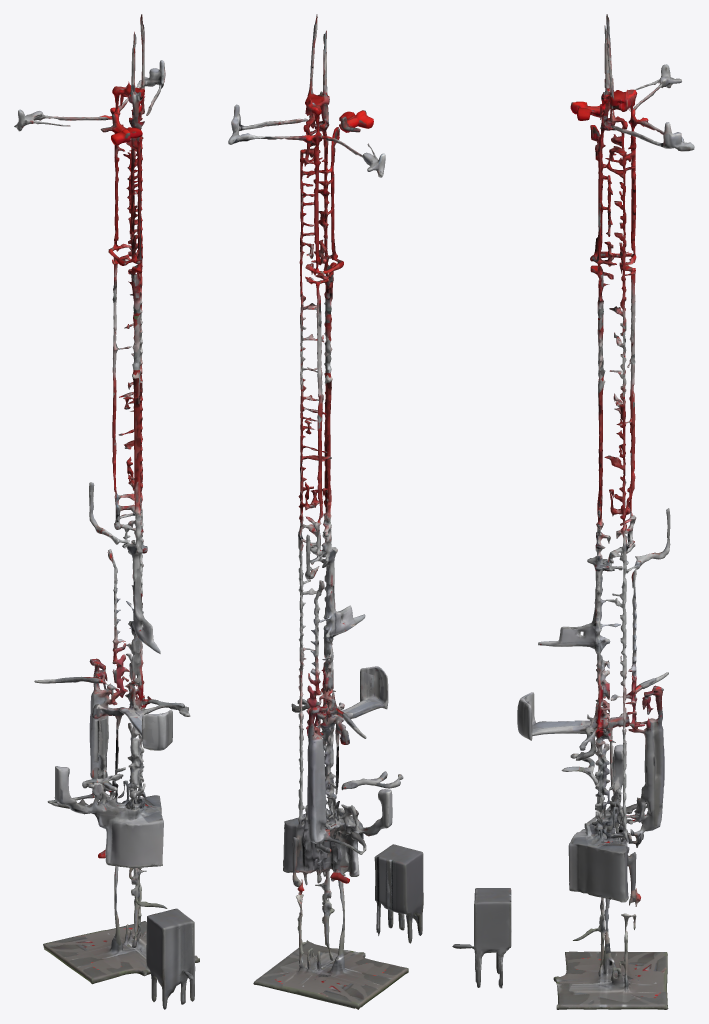
The model's file is LLWAS_BEFORE.glb.
3 renders of one model, left to right at view 1: azimuth 30°, elevation 25°; view 2: azimuth 150°, elevation 25°; view 3: azimuth 270°, elevation 25°, orthographic. The views are drawn at different scales.
Size of the model in its own units: 0.3303 by 2 by 0.4476.
Materials: 1 (1 with a texture image).
